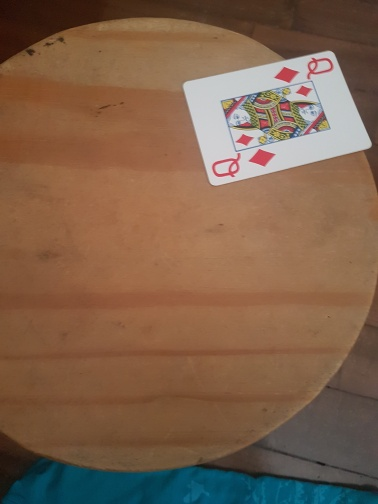queen: (181, 51, 378, 187)
